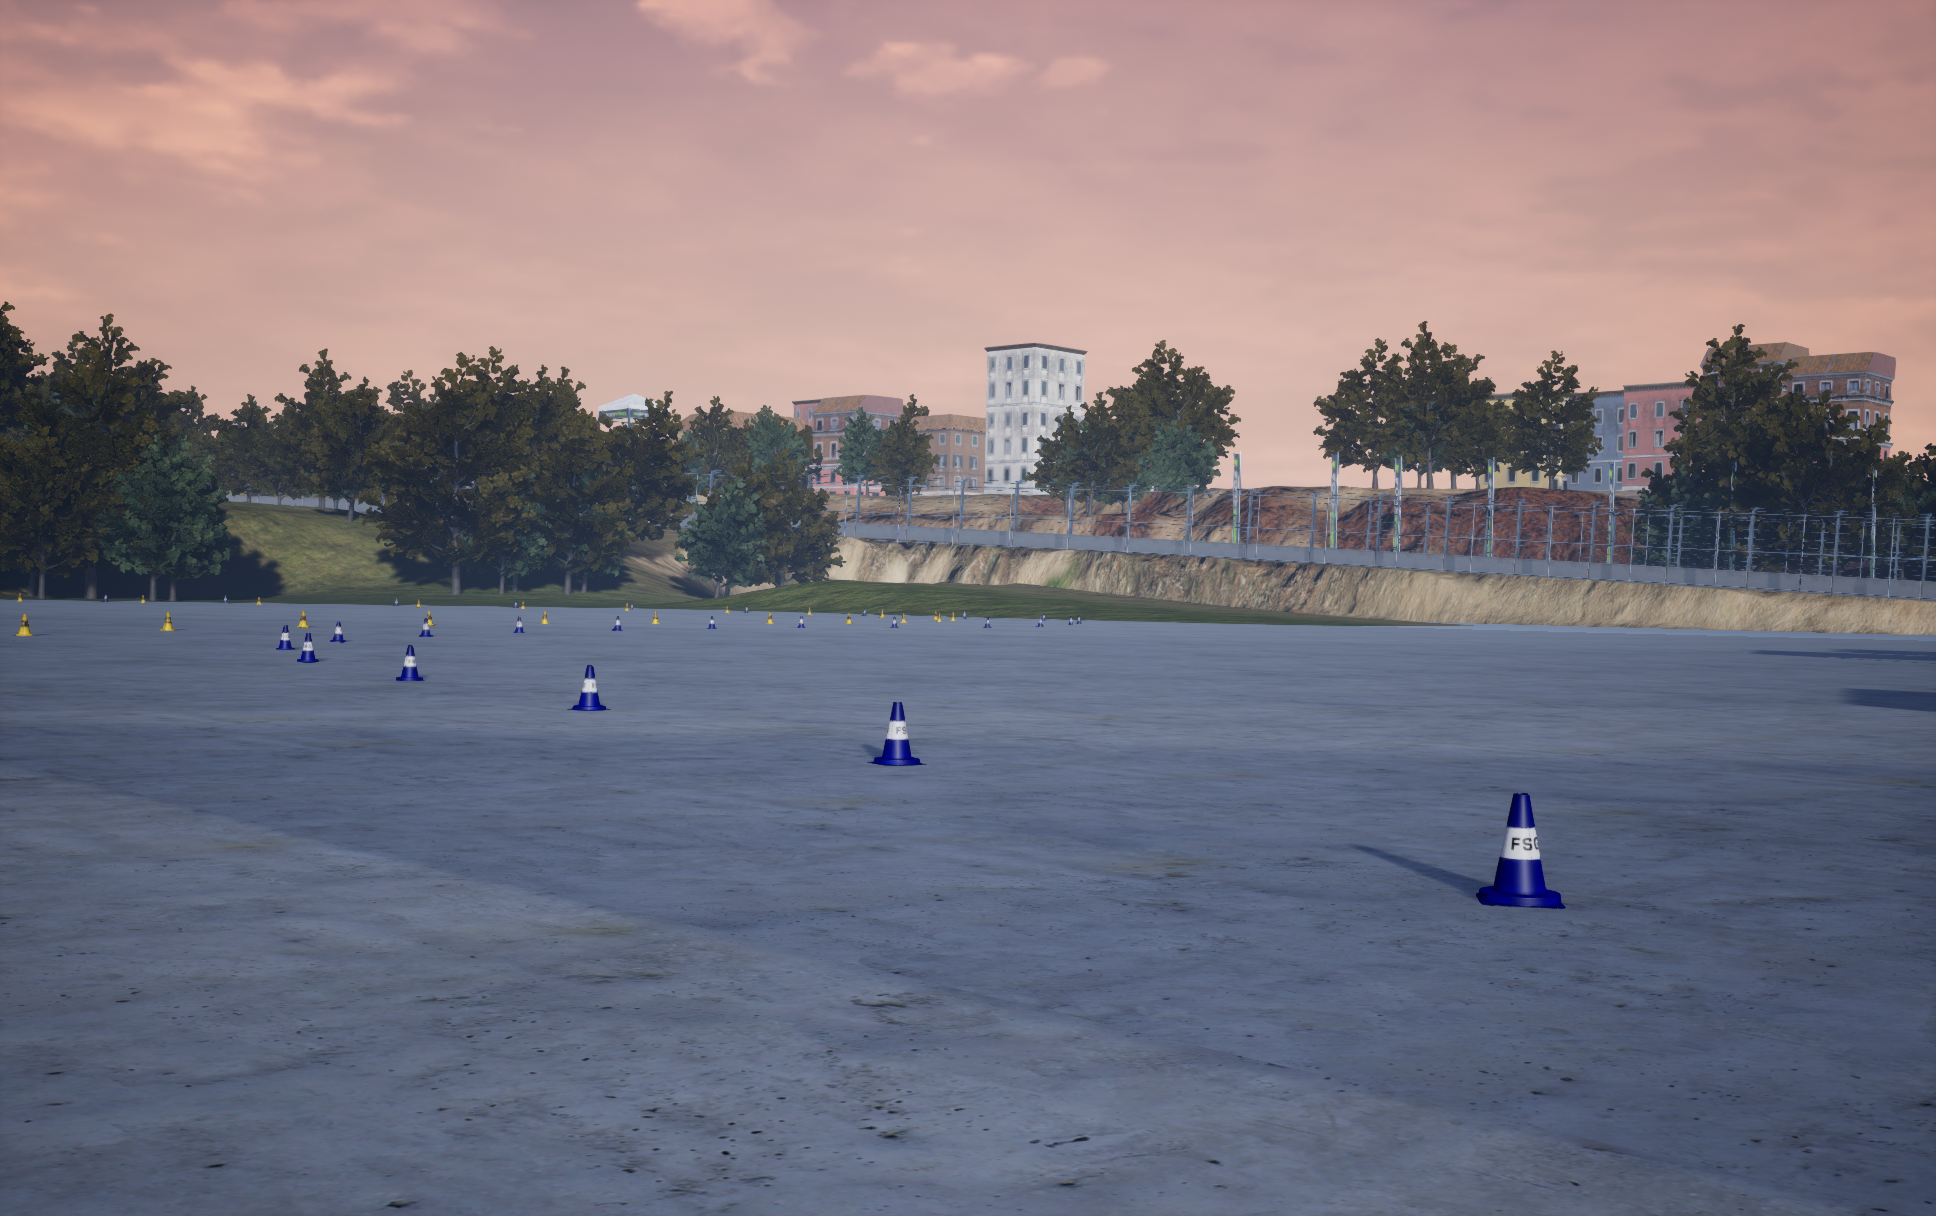blue: (13, 614, 32, 635)
yellow: (1477, 793, 1565, 908), (867, 702, 926, 765), (567, 665, 609, 710), (396, 644, 424, 679), (297, 633, 318, 663), (276, 625, 294, 649), (331, 621, 345, 642), (419, 618, 431, 636)
